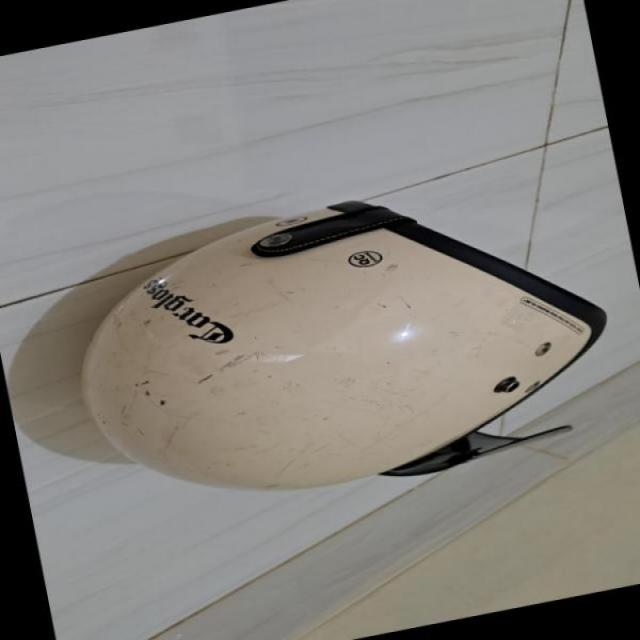Helmet: (81, 202, 604, 488)
